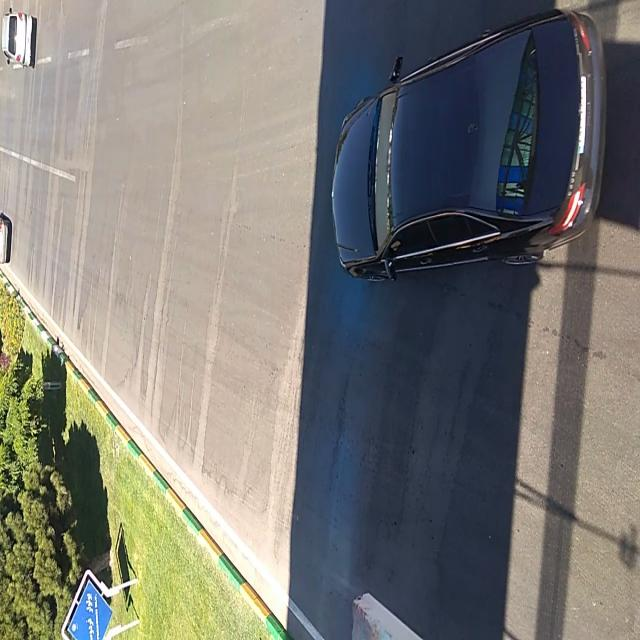car: (333, 8, 608, 276), (3, 10, 35, 70)
